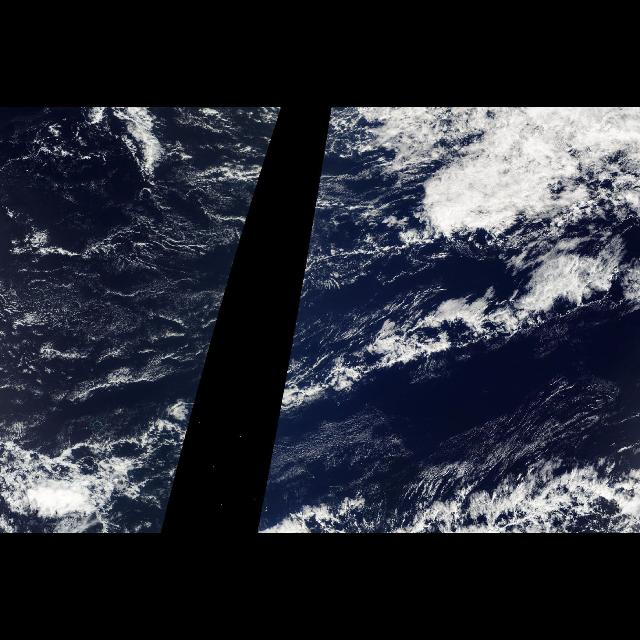Fish: (285, 107, 639, 419), (266, 438, 640, 534)
Sugar: (6, 202, 252, 404)
